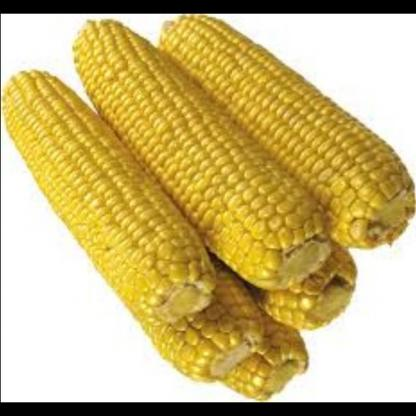corn: (64, 20, 334, 288), (166, 14, 416, 249), (0, 79, 220, 326), (126, 265, 254, 380), (238, 232, 360, 336)
